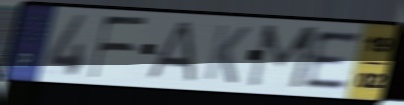4: (45, 13, 88, 79)
A: (141, 20, 198, 85)
E: (302, 29, 363, 90)
F: (87, 14, 151, 81)
K: (201, 22, 253, 87)
M: (244, 22, 323, 92)
